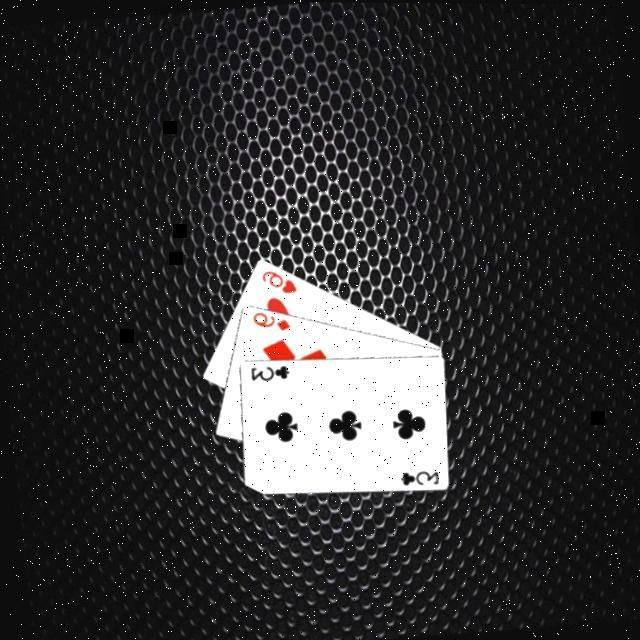3C: (247, 358, 293, 383), (397, 464, 442, 488)
6H: (258, 263, 300, 296)
9D: (250, 304, 294, 334)
